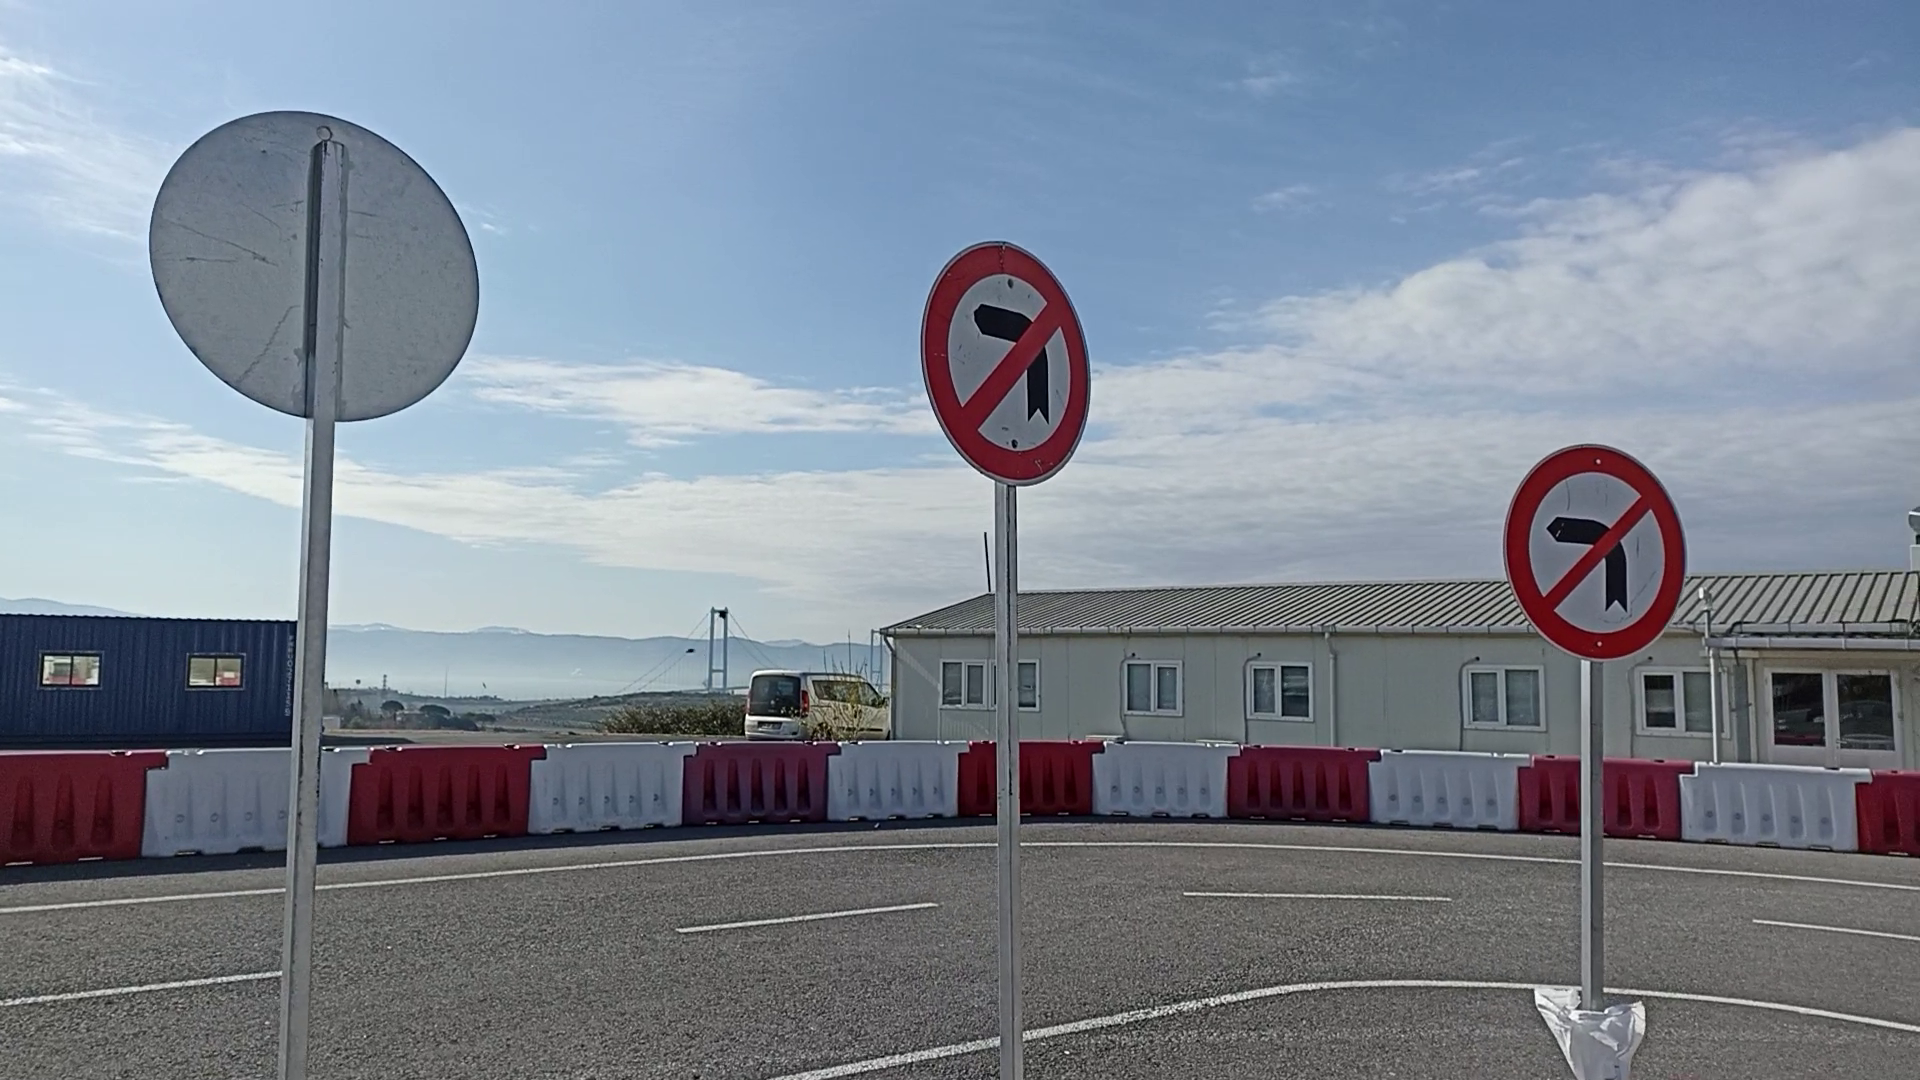noleft: (916, 235, 1098, 491), (1498, 436, 1695, 665)
